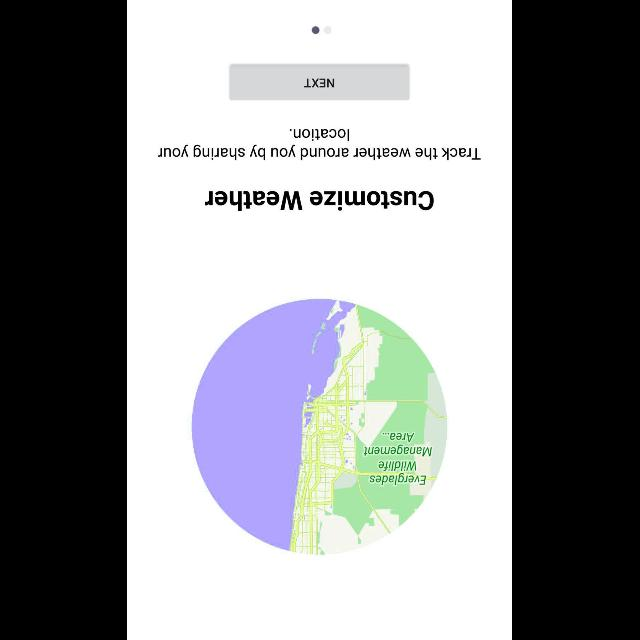image: (192, 299, 448, 555)
pageindicator: (312, 26, 332, 34)
text: (158, 128, 482, 160), (205, 190, 435, 212)
textbutton: (230, 64, 410, 100)
